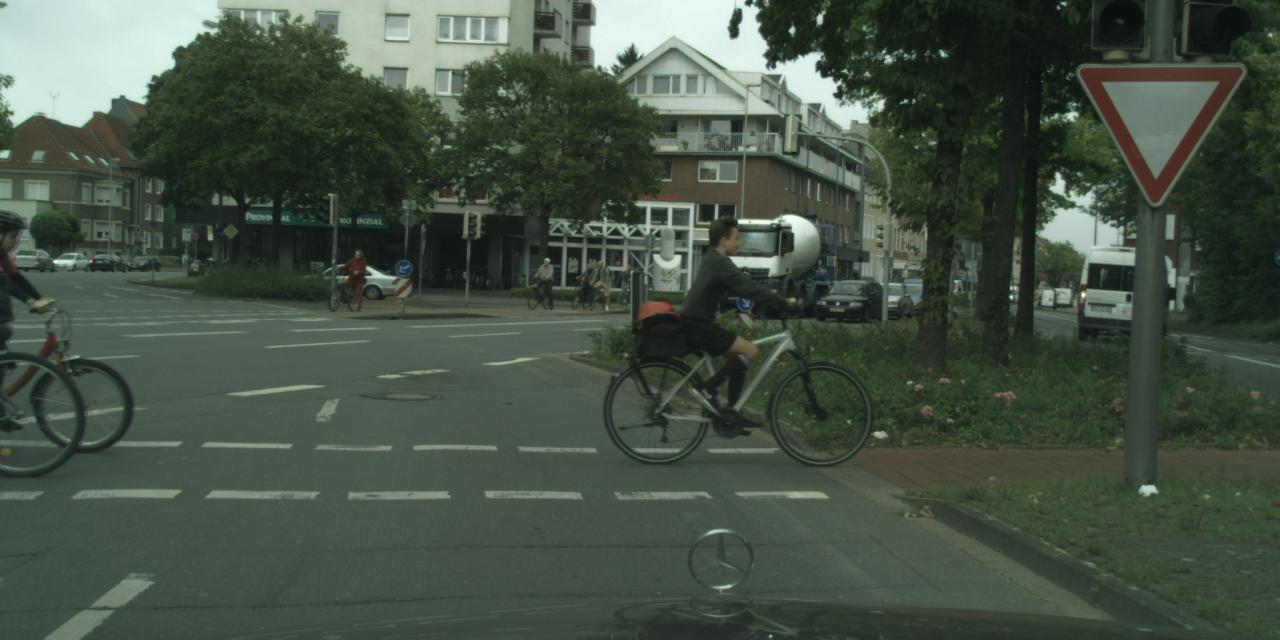ped: (686, 216, 768, 417), (0, 210, 48, 428), (344, 248, 366, 304), (536, 258, 555, 304), (593, 260, 610, 302), (620, 264, 636, 304), (578, 262, 594, 302)
